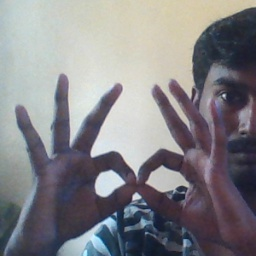B: (79, 115, 204, 223)
